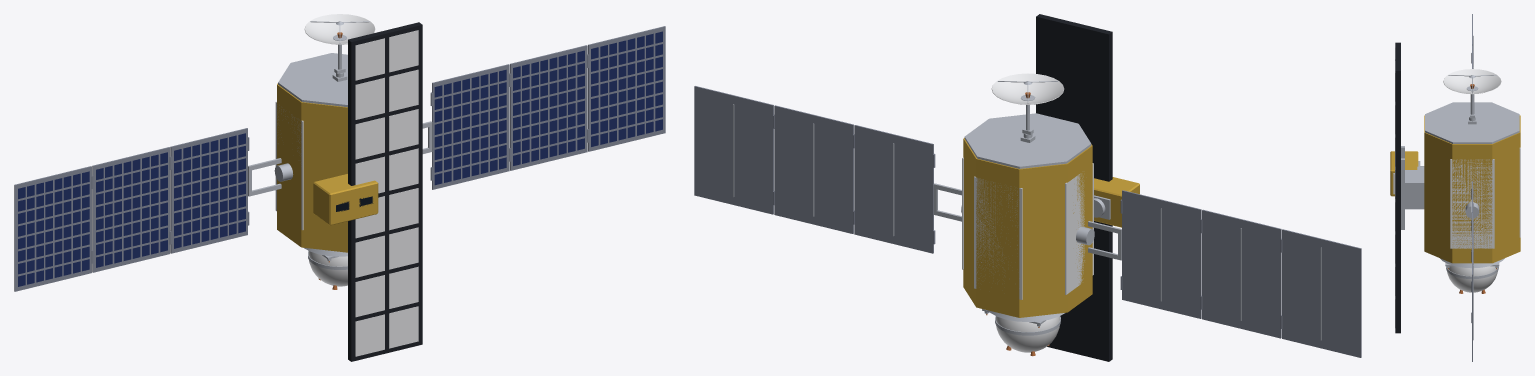
The model's file is ref_s2.glb.
The picture shows the model from 3 angles, left to right: view 1: azimuth 30°, elevation 25°; view 2: azimuth 150°, elevation 25°; view 3: azimuth 270°, elevation 25°; orthographic projection. The views are drawn at different scales.
Parts seen in each view (by area): view 1: pan1500, sar, leostar2_body, sar_antenna_panel, pan1500_celdas_2.001, pan1500_celdas_1.001, pan1500_celdas_0.001, pan1500_hoja_2.001, pan1500_hoja_1.001, pan1500_hoja_0.001, leostar2_top, ir_body (+3 smaller); view 2: pan1500, leostar2_body, sar_antenna_panel, pan1500_hoja_2.001, pan1500_hoja_0.001, pan1500_hoja_1.001, leostar2_top, leostar2_rad_xn, xhga_dish, leostar2_rad_y, ms_tank, ir_body; view 3: leostar2_body, leostar2_rad_xp, leostar2_top, sar_antenna_panel, xhga_dish, ms_tank, sar_electronics, ir_body, pan1500, sar_strut2, sar, leostar2_adapter (+3 smaller).
Part boxes in pixels (box(x1,y1,x2,y2)): pan1500: box(432, 26, 665, 189); sar: box(355, 30, 418, 356); leostar2_body: box(277, 83, 347, 252); sar_antenna_panel: box(348, 22, 422, 361); pan1500_celdas_2.001: box(18, 171, 89, 286); pan1500_celdas_1.001: box(96, 152, 167, 267); pan1500_celdas_0.001: box(174, 133, 245, 248); pan1500_hoja_2.001: box(14, 166, 91, 291); pan1500_hoja_1.001: box(92, 147, 169, 272); pan1500_hoja_0.001: box(170, 128, 247, 253); leostar2_top: box(278, 53, 347, 107); ir_body: box(313, 174, 378, 225); pan1500: box(694, 86, 933, 253); leostar2_body: box(963, 138, 1092, 317); sar_antenna_panel: box(1036, 14, 1112, 361); pan1500_hoja_2.001: box(1282, 229, 1361, 357); pan1500_hoja_0.001: box(1122, 190, 1201, 318); pan1500_hoja_1.001: box(1202, 209, 1281, 338); leostar2_top: box(964, 113, 1091, 168); leostar2_rad_xn: box(1065, 163, 1093, 294); xhga_dish: box(991, 73, 1064, 104); leostar2_rad_y: box(974, 176, 1022, 299); ms_tank: box(995, 316, 1060, 352); ir_body: box(1094, 177, 1139, 227); leostar2_body: box(1424, 115, 1520, 263); leostar2_rad_xp: box(1450, 159, 1494, 248); leostar2_top: box(1425, 102, 1519, 143); sar_antenna_panel: box(1395, 42, 1400, 333); xhga_dish: box(1443, 69, 1501, 94); ms_tank: box(1447, 266, 1497, 292); sar_electronics: box(1405, 166, 1424, 209); ir_body: box(1390, 151, 1418, 196); pan1500: box(1472, 181, 1473, 361); sar_strut2: box(1401, 158, 1404, 229); sar: box(1395, 48, 1395, 327); leostar2_adapter: box(1440, 258, 1504, 268).
Bounding box in the file's own units: 6.39 × 3 × 1.35.
